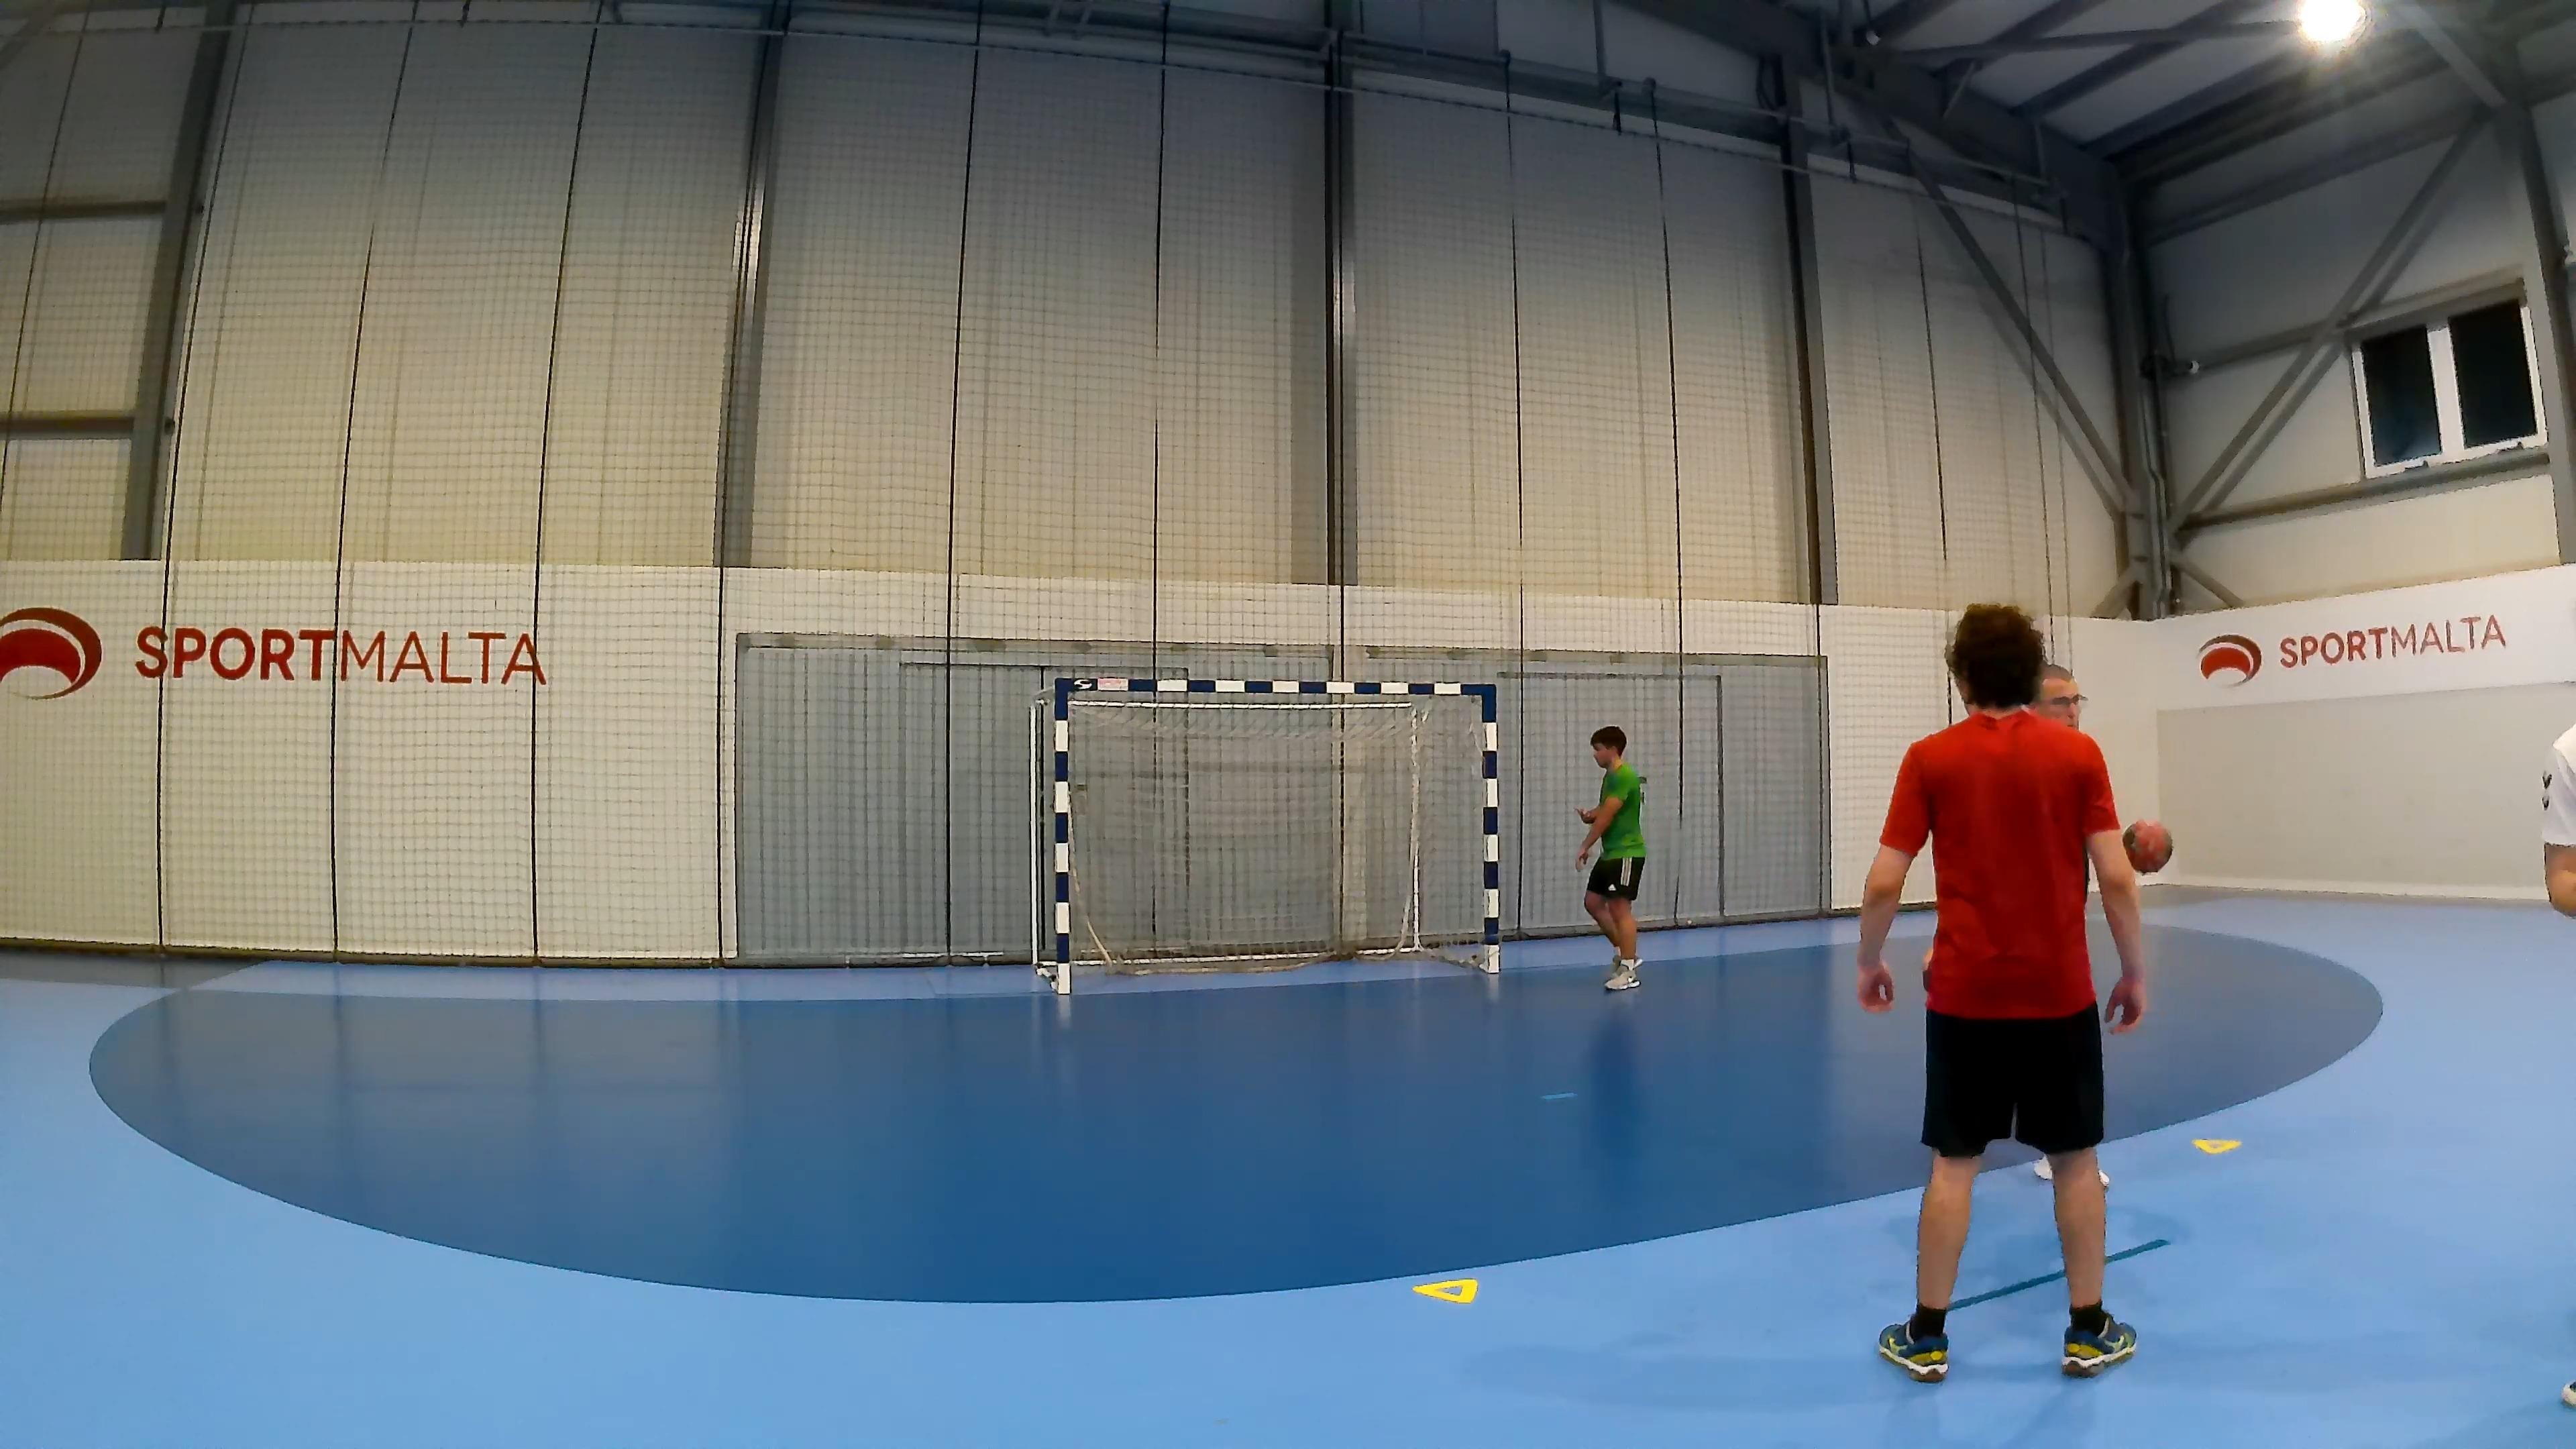handball: (2121, 817, 2173, 874)
